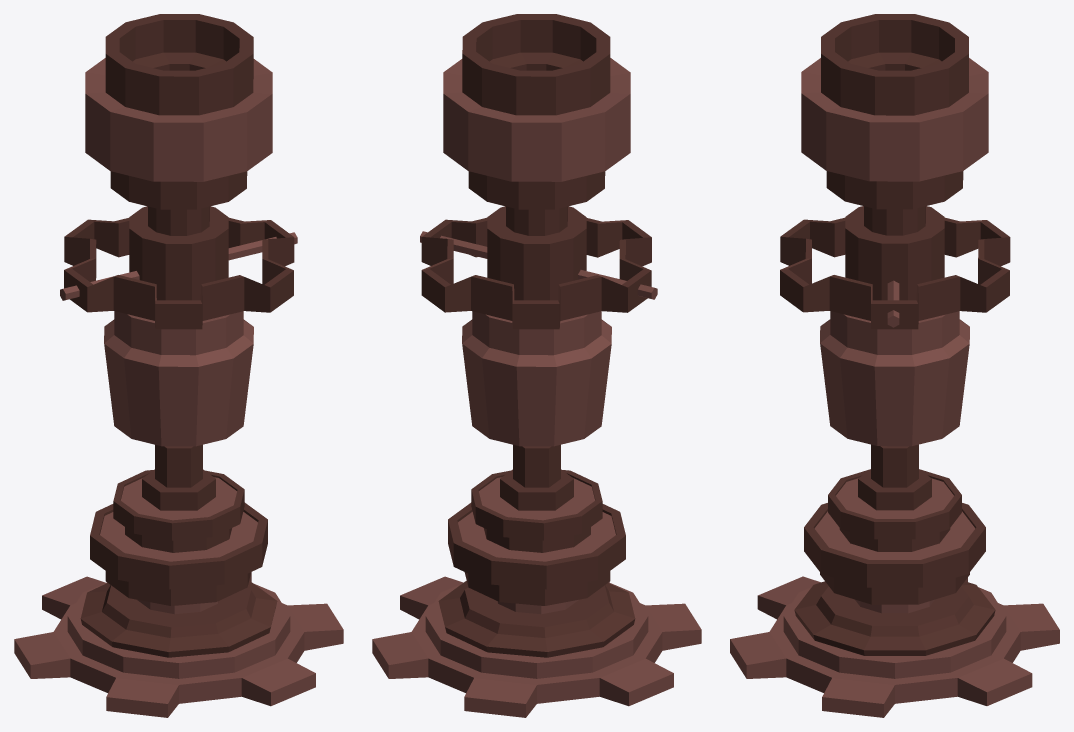
Rendered from upwards_2.glb.
3 views of the same model, side by side, from view 1: azimuth 30°, elevation 25°; view 2: azimuth 150°, elevation 25°; view 3: azimuth 270°, elevation 25° (orthographic).
Parts seen in each view (by area): view 1: _MeshInstance3D_226, _MeshInstance3D_225, _MeshInstance3D_227; view 2: _MeshInstance3D_226, _MeshInstance3D_225, _MeshInstance3D_227; view 3: _MeshInstance3D_226, _MeshInstance3D_225, _MeshInstance3D_227.
Boxes of the visible parts, x1,y1,x2,y2 form: _MeshInstance3D_226: (60,14,297,446); _MeshInstance3D_225: (14,502,343,717); _MeshInstance3D_227: (113,444,244,552); _MeshInstance3D_226: (420,14,657,446); _MeshInstance3D_225: (372,502,701,717); _MeshInstance3D_227: (471,444,602,552); _MeshInstance3D_226: (780,14,1010,446); _MeshInstance3D_225: (730,503,1059,717); _MeshInstance3D_227: (828,444,961,551).
Size of the model in its own units: 1.38 by 2.79 by 1.38.
